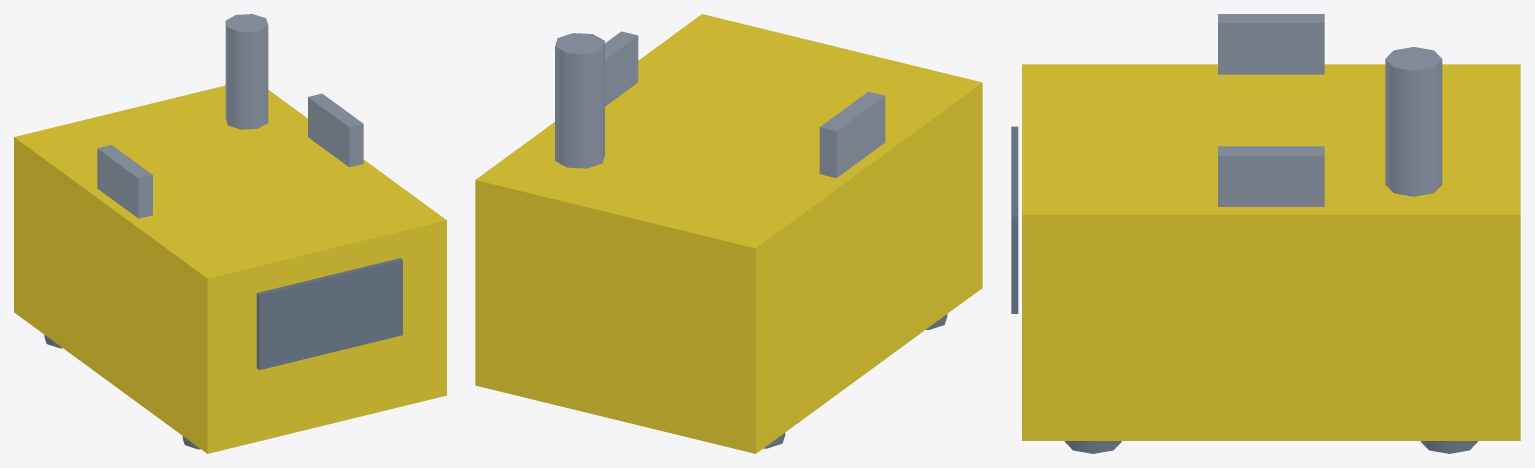
File: generator.glb
3 renders of one model, left to right at view 1: azimuth 30°, elevation 25°; view 2: azimuth 150°, elevation 25°; view 3: azimuth 270°, elevation 25°, orthographic. The views are drawn at different scales.
Size of the model in its own units: 0.5 by 0.57 by 0.715.
